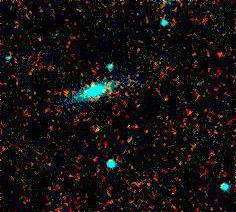star: (80, 43, 110, 73)
